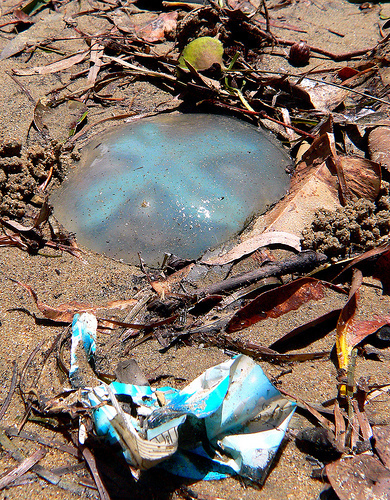litter: (67, 310, 298, 488)
